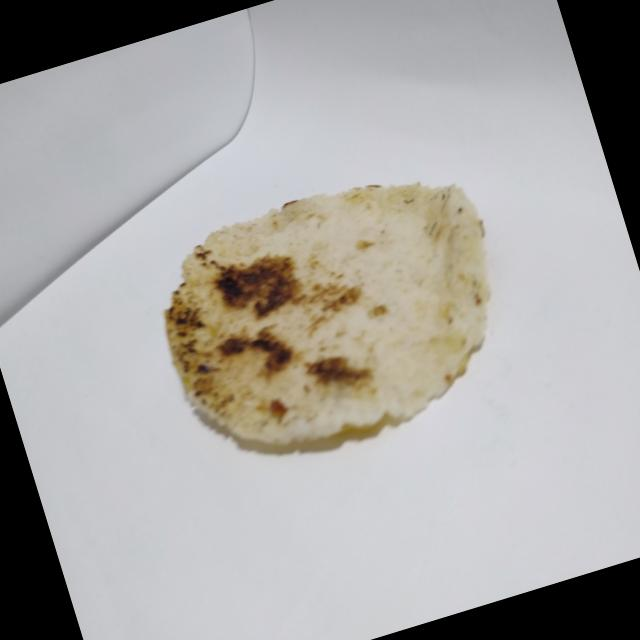Mbeju: (126, 142, 538, 492)
